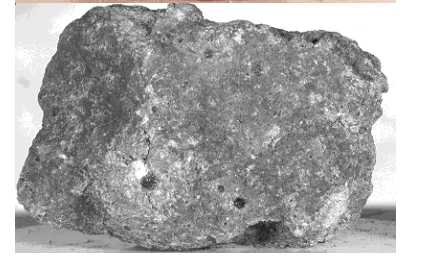Breccia: (19, 3, 388, 250)
